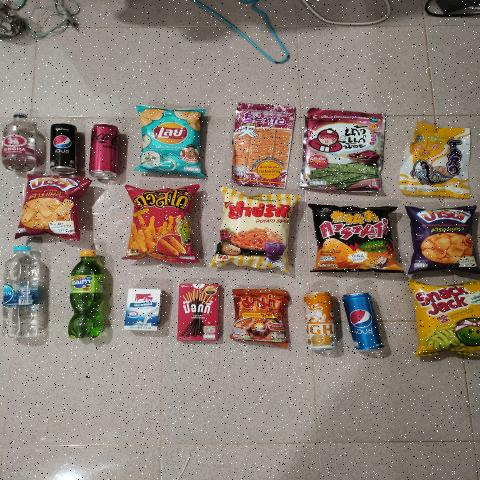bento_red: (232, 103, 294, 190)
coke_red: (88, 121, 118, 177)
crystal: (0, 242, 38, 348)
fanta_green: (68, 251, 107, 346)
karamujo: (313, 207, 391, 265)
lay_blue: (141, 106, 201, 175)
mama: (231, 292, 291, 351)
paprika: (220, 193, 290, 269)
party_purple: (413, 204, 477, 267)
party_red: (24, 176, 78, 235)
pepsi_black: (49, 121, 69, 172)
pepsi_blue: (346, 290, 386, 352)
pokki: (176, 286, 224, 340)
singha_soda: (4, 116, 34, 164)
singha_yellow: (302, 294, 345, 353)
snack_jack: (413, 286, 480, 362)
taokaenoi: (309, 109, 383, 196)
taro_yellow: (412, 124, 470, 195)
thai_denmark: (121, 284, 164, 334)
twisco: (126, 182, 193, 262)
